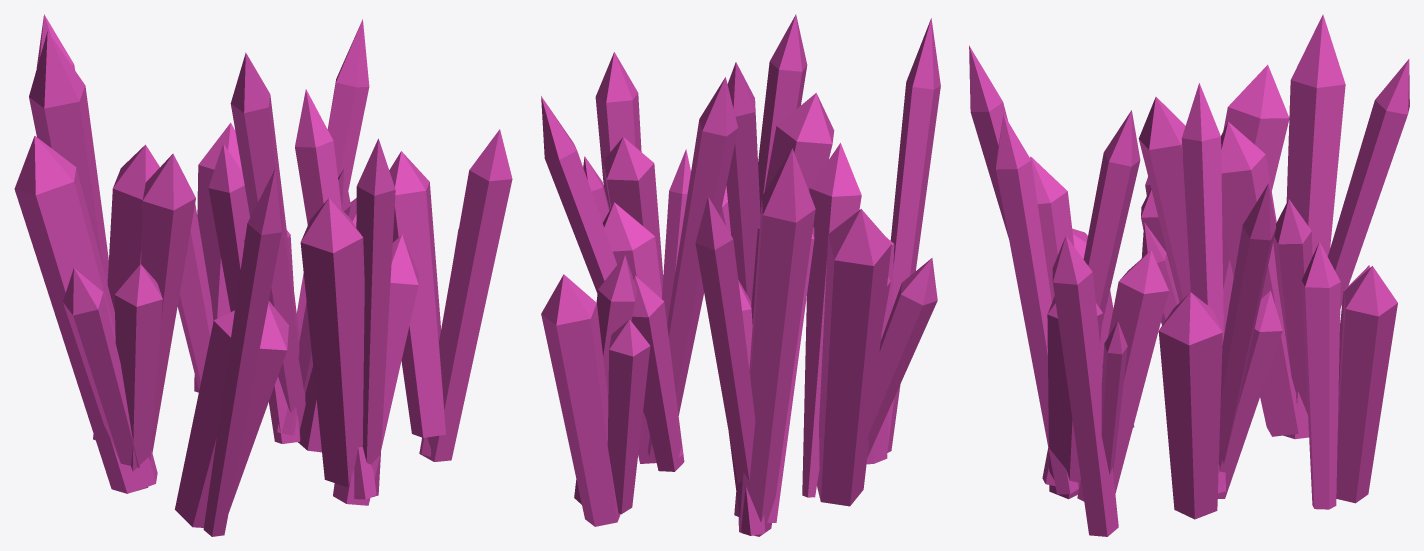
Rendered from crystals_4.fbx.
The picture shows the model from 3 angles, left to right: view 1: azimuth 30°, elevation 25°; view 2: azimuth 150°, elevation 25°; view 3: azimuth 270°, elevation 25°; orthographic projection. The views are drawn at different scales.
Parts seen in each view (by area): view 1: crystals4.001; view 2: crystals4.001; view 3: crystals4.001.
Part boxes in pixels (left/top/right/bottom): crystals4.001: left=14, top=14, right=512, bottom=536; crystals4.001: left=541, top=14, right=940, bottom=536; crystals4.001: left=969, top=14, right=1409, bottom=536.
Bounding box in the file's own units: 350 × 358 × 357.
